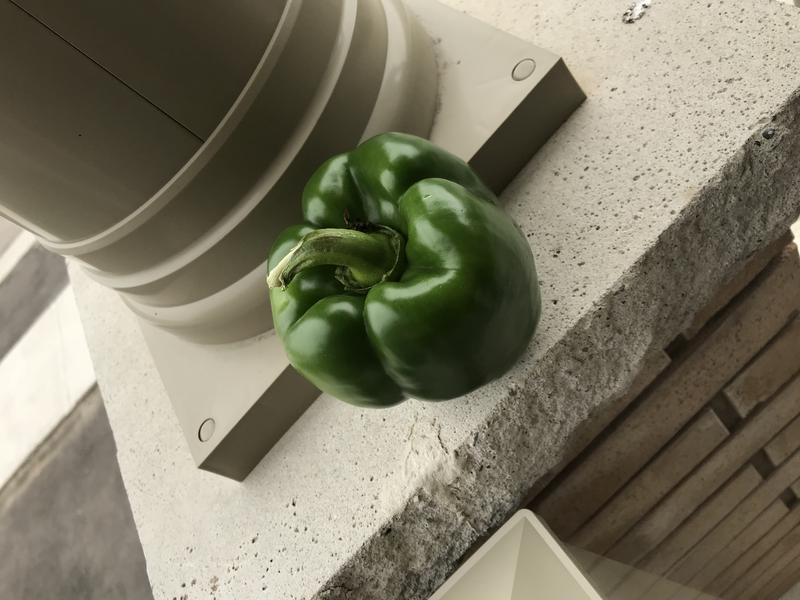green_pepper: (253, 121, 549, 408)
